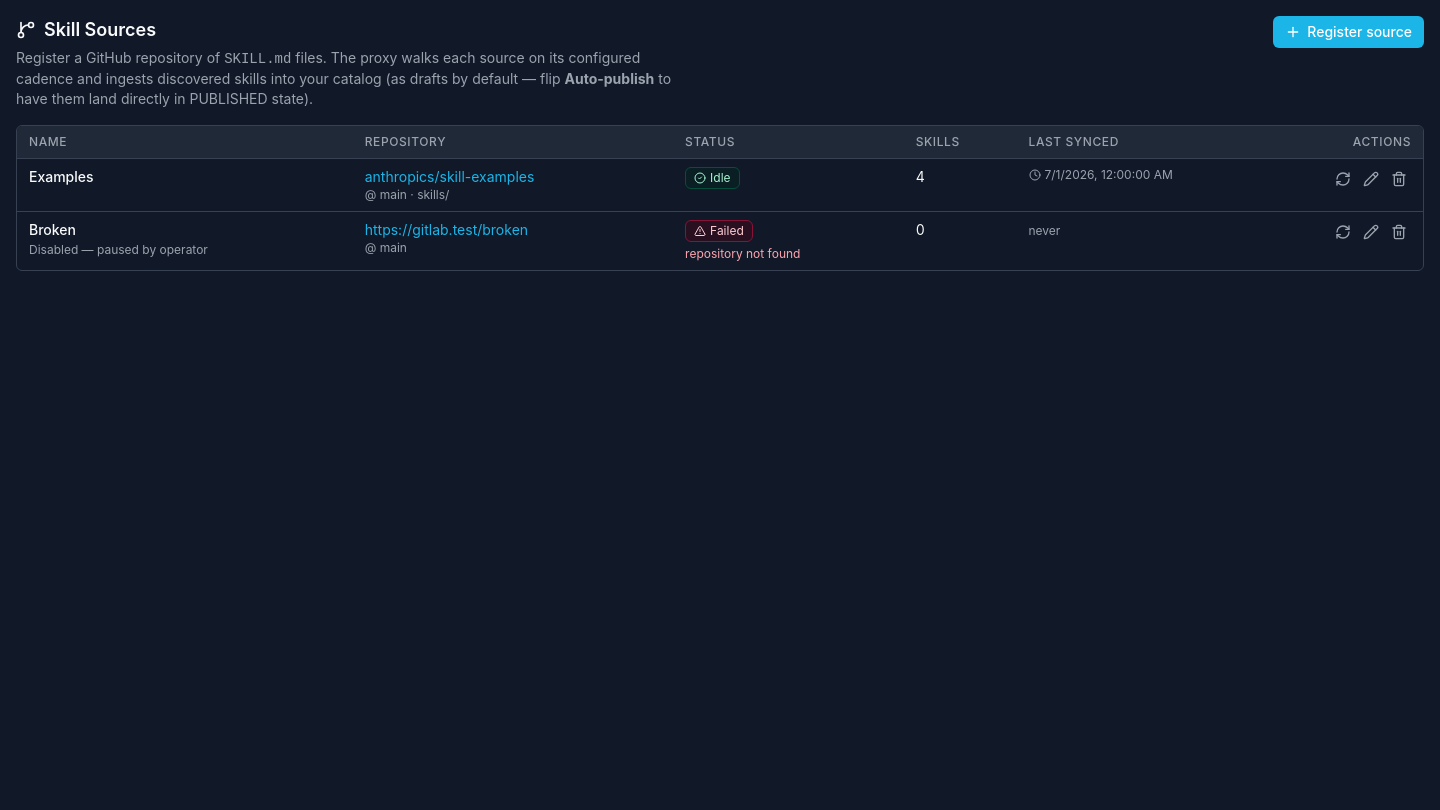
it: SkillSourcesTab › register › keeps the modal open with the reason on failure
Expected: the heading "Skill Sources" is shown, [16,19,156,40]
Click the button "Register source": (1349, 32) [1273,16,1424,48]
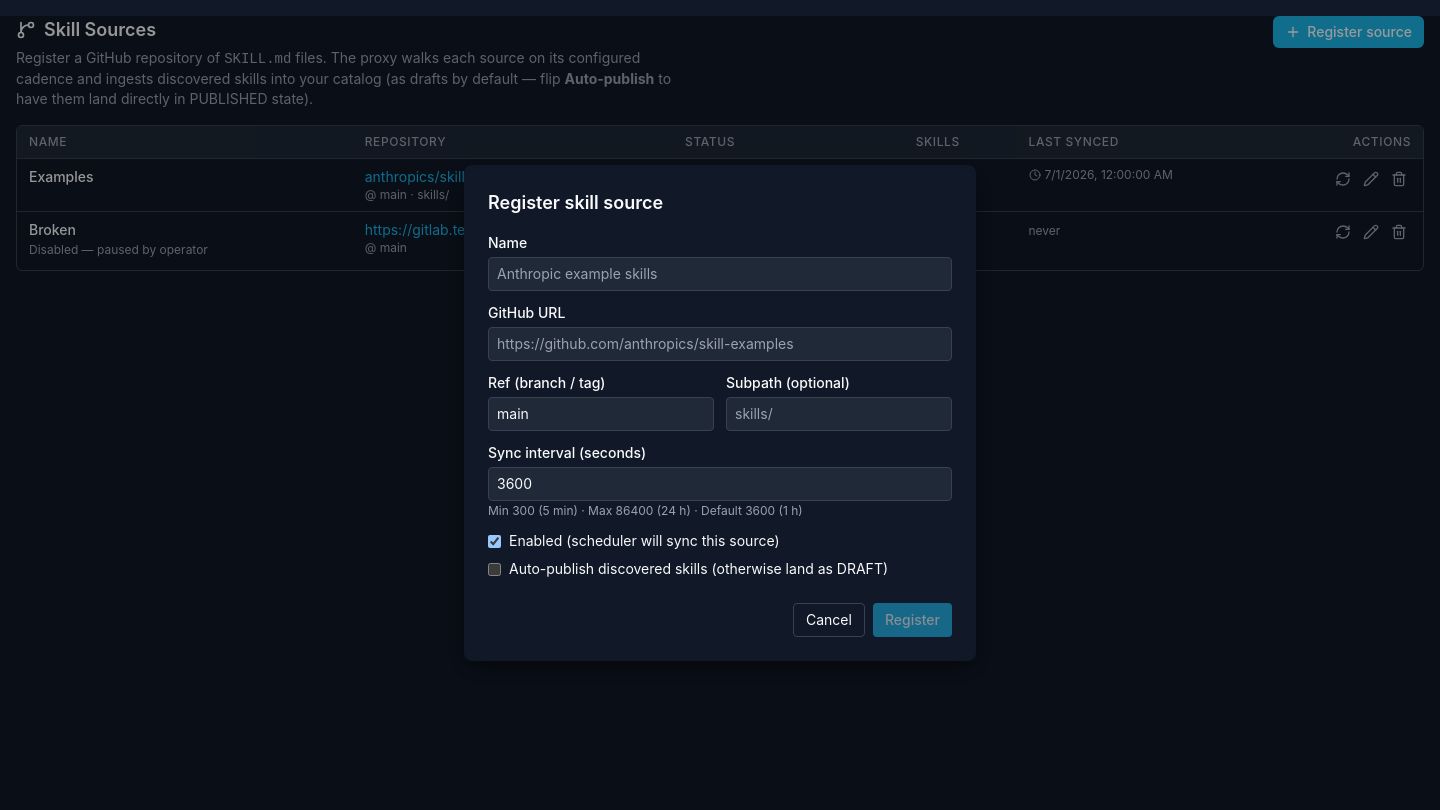
In the field with placeholder "Anthropic example skills": (720, 274) [488,257,952,291], type "New"
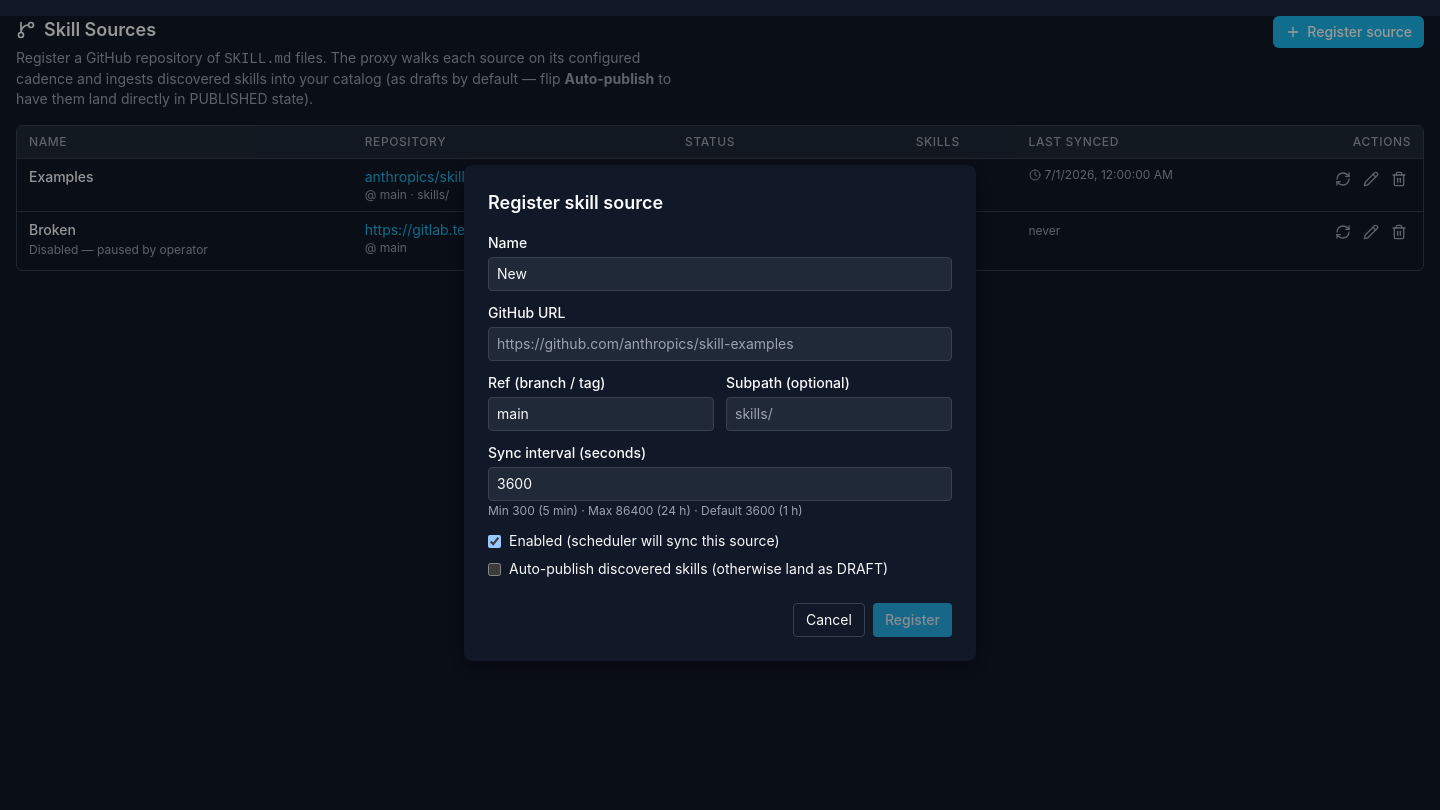
In the field with placeholder "https://github.com/anthropics/skill-examples": (720, 344) [488,327,952,361], type "x"
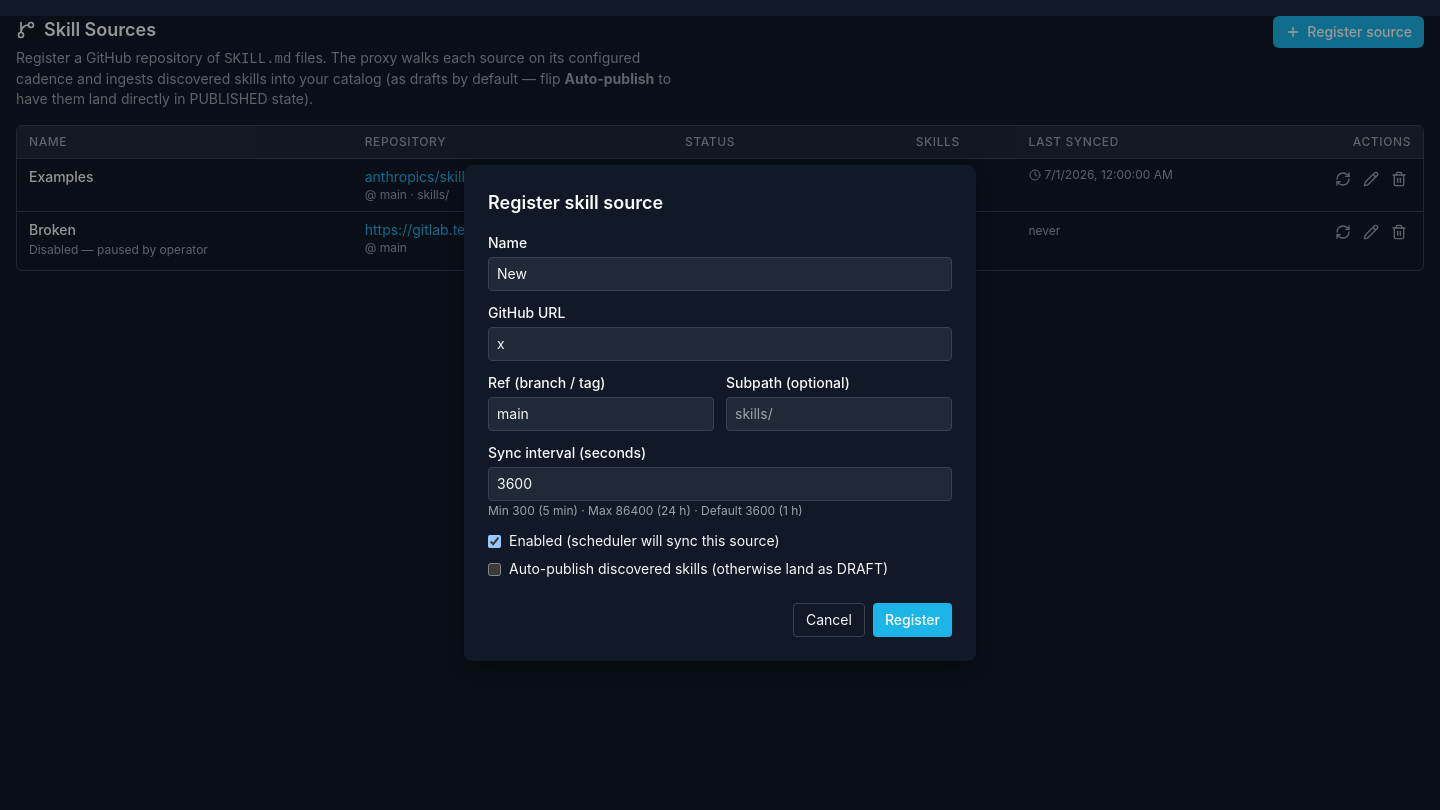
Click the button "Register": (912, 620) [873,603,952,637]
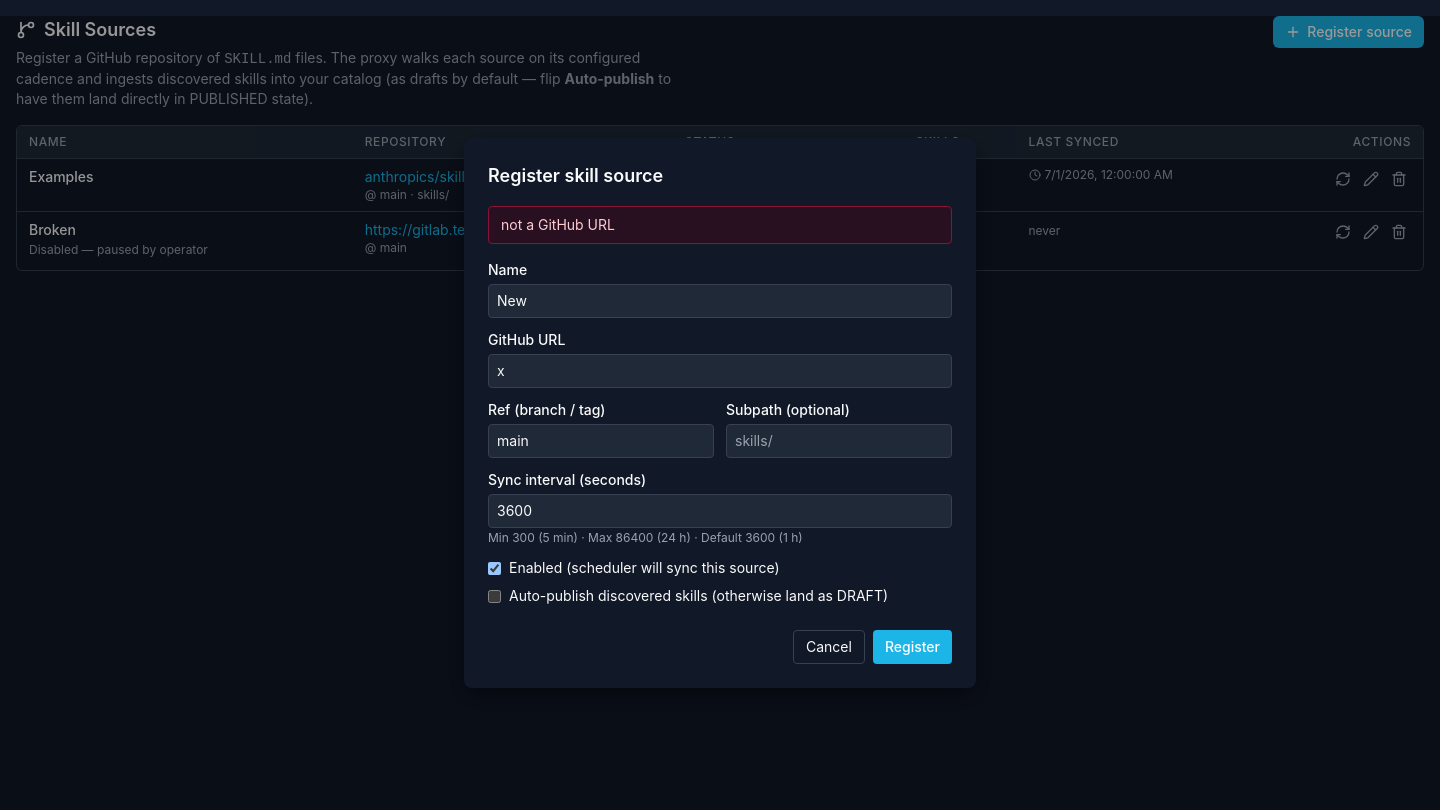
Expected: the heading "Register skill source" is shown, [488,165,663,186]
Expected: the text "not a GitHub URL" is shown, [488,206,952,244]
